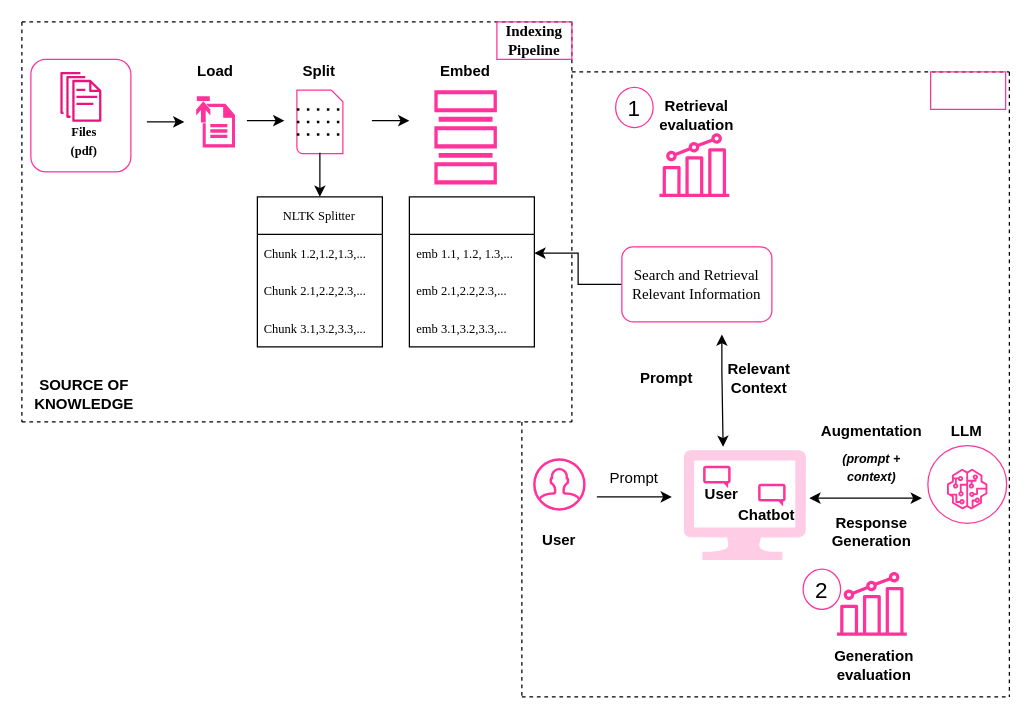
Image size: 1033x720. Some labels were removed from this diagram. The box of each missing label's shape, as (x1, y1, x2, y2) in pixels:
OpenAI Embedding: (408, 196, 534, 347)
RAG Pipeline: (929, 71, 1006, 109)
